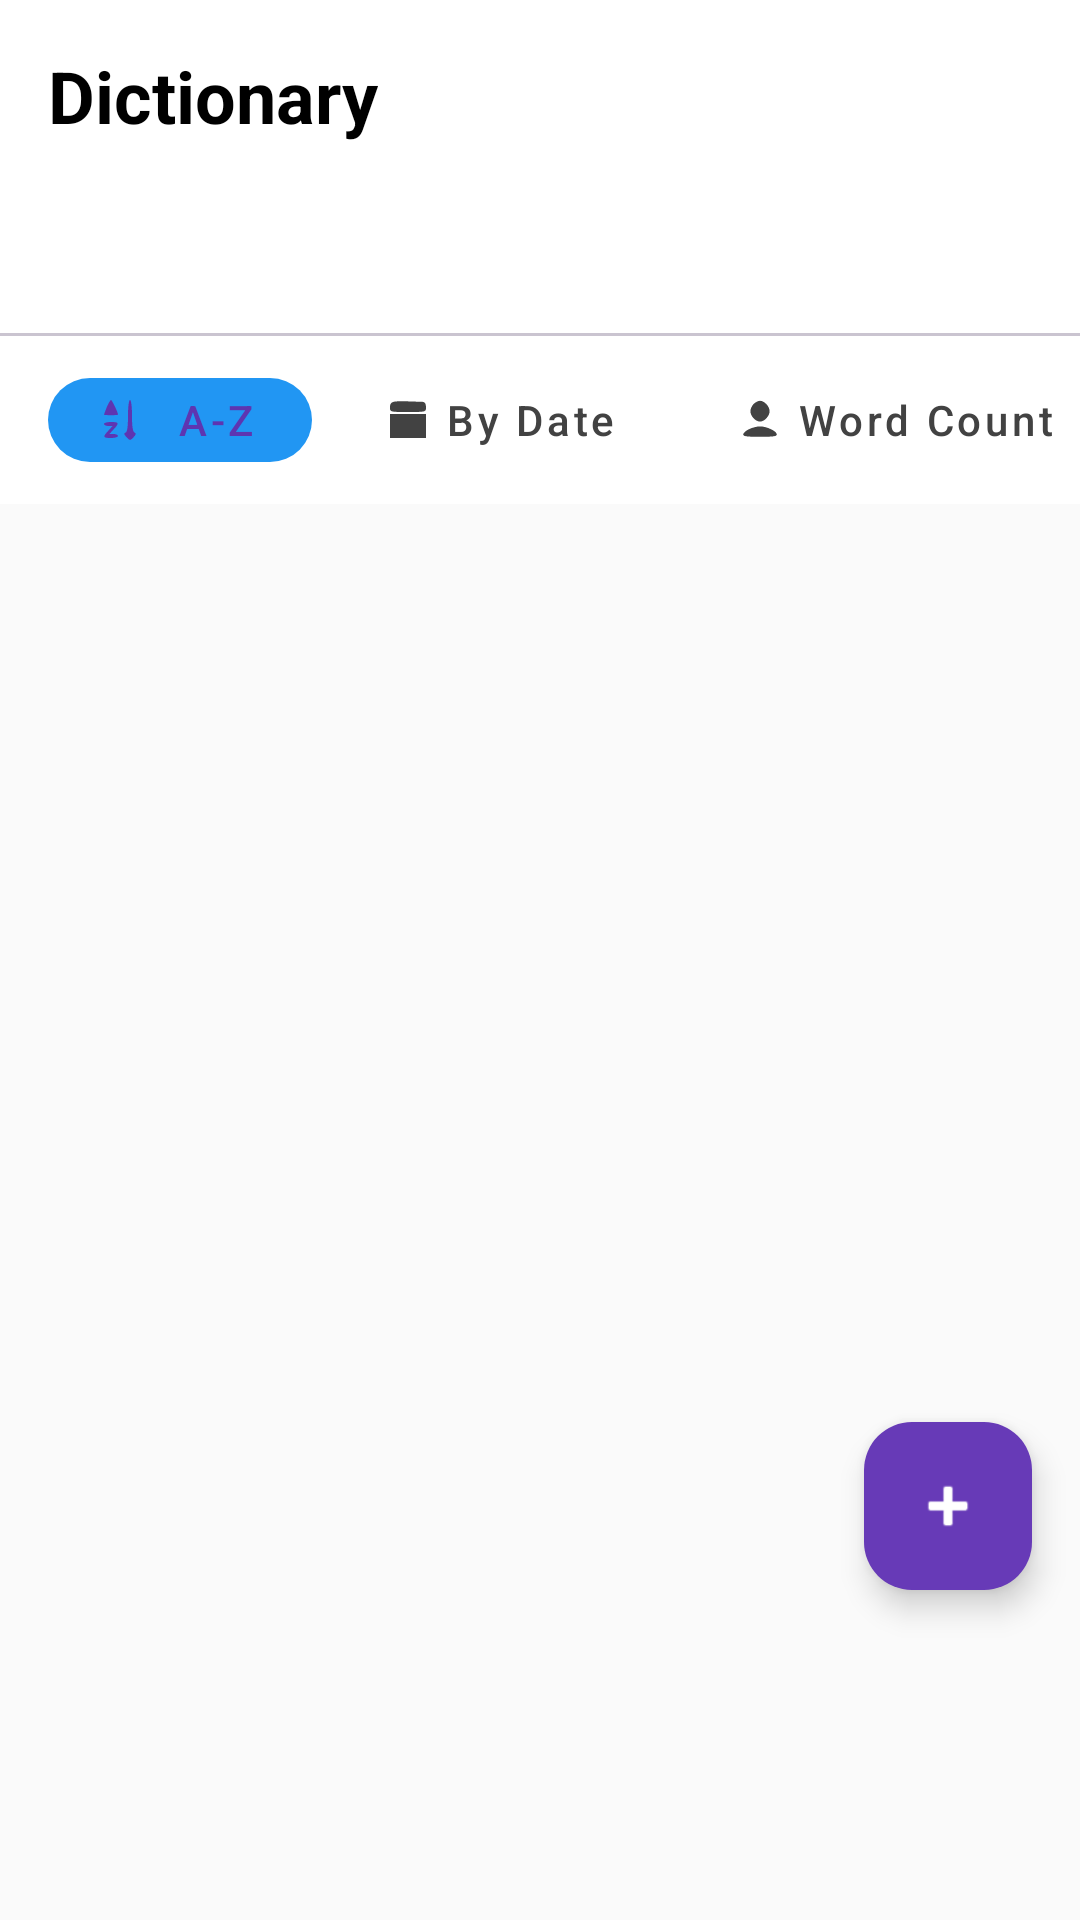

Named icons in this screenshot (1080x1920) and their centers, (x=x, y=y):
add: (x=948, y=1506)
